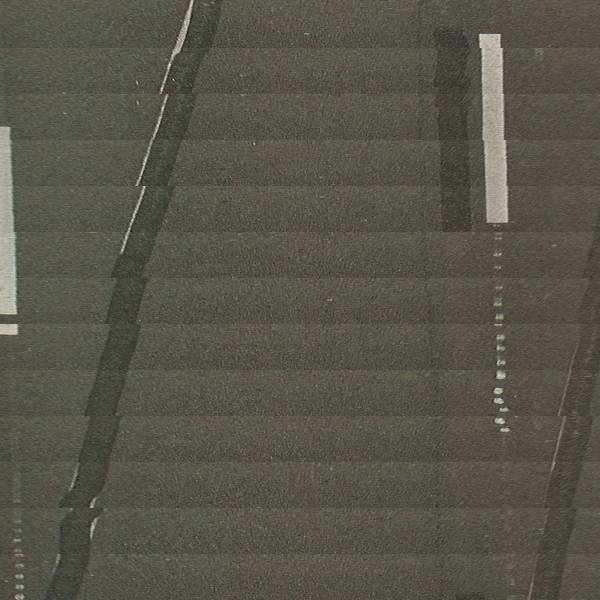road_damage: (55, 154, 180, 569)
